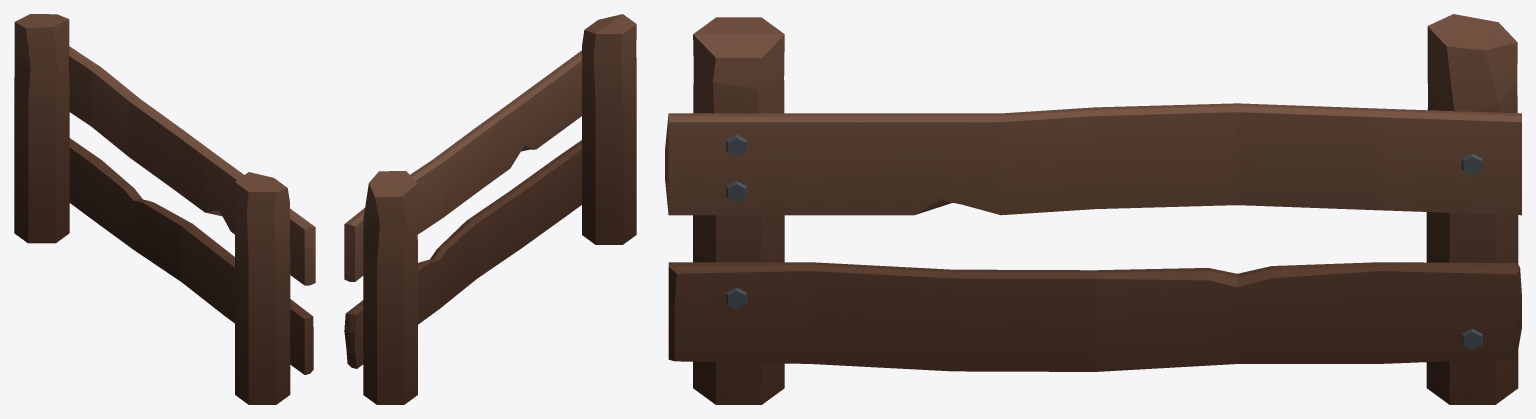
The model's file is płot2.fbx.
3 renders of one model, left to right at view 1: azimuth 30°, elevation 25°; view 2: azimuth 150°, elevation 25°; view 3: azimuth 270°, elevation 25°, orthographic. The views are drawn at different scales.
Parts seen in each view (by area): view 1: płot2, slupy2; view 2: slupy2, płot2; view 3: płot2, slupy2, gwozdzie2.
Boxes of the visible parts, x1,y1,x2,y2 form: płot2: (68,46,315,374); slupy2: (14,14,290,404); slupy2: (363,14,636,404); płot2: (344,50,582,368); płot2: (665,103,1521,371); slupy2: (693,14,1518,404); gwozdzie2: (726,134,1482,350).
Bounding box in the file's own units: 34.72 × 122 × 263.
